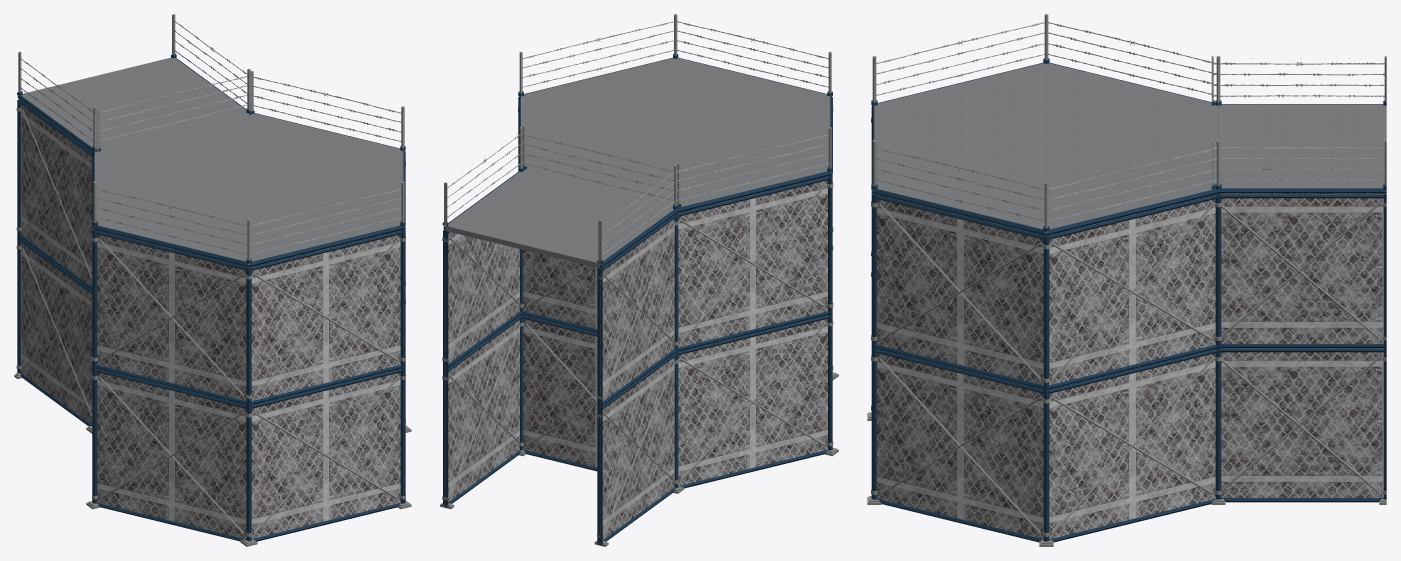
Rendered from pier.glb.
3 views of the same model, side by side, from view 1: azimuth 30°, elevation 25°; view 2: azimuth 150°, elevation 25°; view 3: azimuth 270°, elevation 25° (orthographic). The views are drawn at different scales.
Visible parts, largest first — view 1: pier-lod0-base0, pier-lod0-floor0, pier-lod0-roof0, pier-lod0-roof0-link-n, pier-lod0-base0-link-n, pier-lod0-floor0-link-n; view 2: pier-lod0-roof0, pier-lod0-base0, pier-lod0-floor0, pier-lod0-base0-link-n, pier-lod0-floor0-link-n, pier-lod0-roof0-link-n; view 3: pier-lod0-base0, pier-lod0-floor0, pier-lod0-roof0, pier-lod0-floor0-link-n, pier-lod0-base0-link-n, pier-lod0-roof0-link-n.
Boxes of the visible parts, bbox=[...] form: pier-lod0-base0: bbox=[86, 299, 411, 546]; pier-lod0-floor0: bbox=[92, 161, 405, 406]; pier-lod0-roof0: bbox=[92, 68, 405, 267]; pier-lod0-roof0-link-n: bbox=[17, 14, 254, 152]; pier-lod0-base0-link-n: bbox=[14, 238, 92, 431]; pier-lod0-floor0-link-n: bbox=[16, 99, 92, 290]; pier-lod0-roof0: bbox=[518, 14, 832, 212]; pier-lod0-base0: bbox=[519, 246, 838, 493]; pier-lod0-floor0: bbox=[518, 107, 833, 352]; pier-lod0-base0-link-n: bbox=[440, 315, 682, 546]; pier-lod0-floor0-link-n: bbox=[442, 214, 676, 407]; pier-lod0-roof0-link-n: bbox=[442, 125, 681, 268]; pier-lod0-base0: bbox=[867, 271, 1225, 546]; pier-lod0-floor0: bbox=[871, 117, 1221, 391]; pier-lod0-roof0: bbox=[871, 14, 1221, 235]; pier-lod0-floor0-link-n: bbox=[1219, 193, 1386, 349]; pier-lod0-base0-link-n: bbox=[1212, 348, 1386, 504]; pier-lod0-roof0-link-n: bbox=[1211, 56, 1386, 193].
Size of what is drawn, in the model's own units: 43.53 by 42.2 by 54.95.
6 materials, 6 textured.
